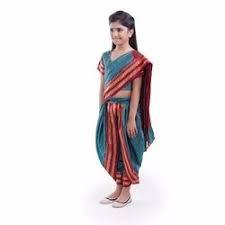Human: (90, 8, 144, 207)
